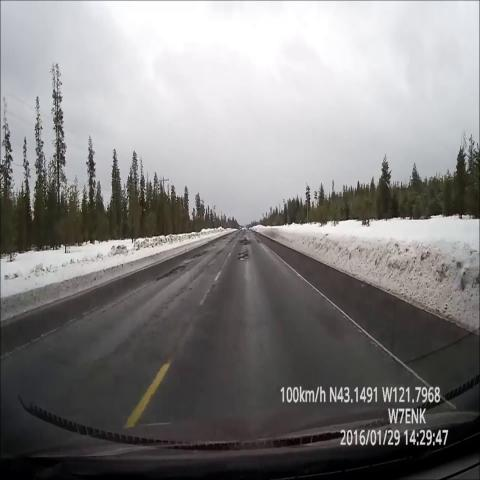pothole: (150, 263, 191, 294), (230, 246, 253, 270), (189, 245, 209, 265), (234, 230, 253, 248), (252, 234, 265, 247)
